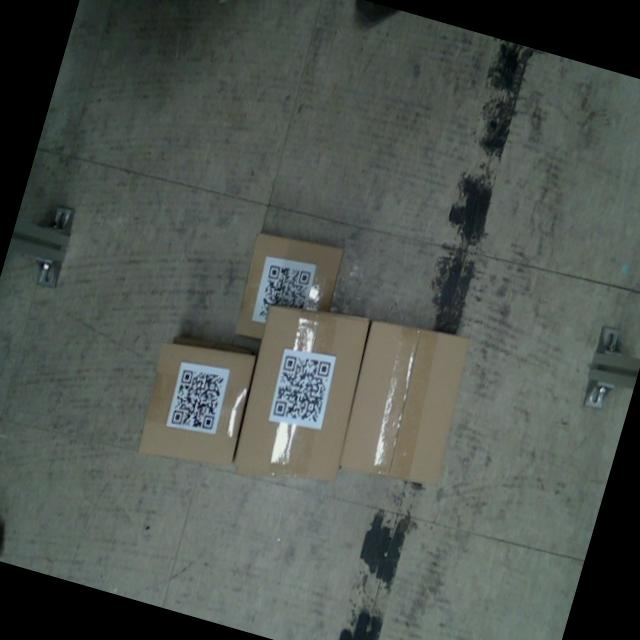box: (222, 282, 384, 498), (331, 309, 476, 496), (126, 322, 268, 483)
